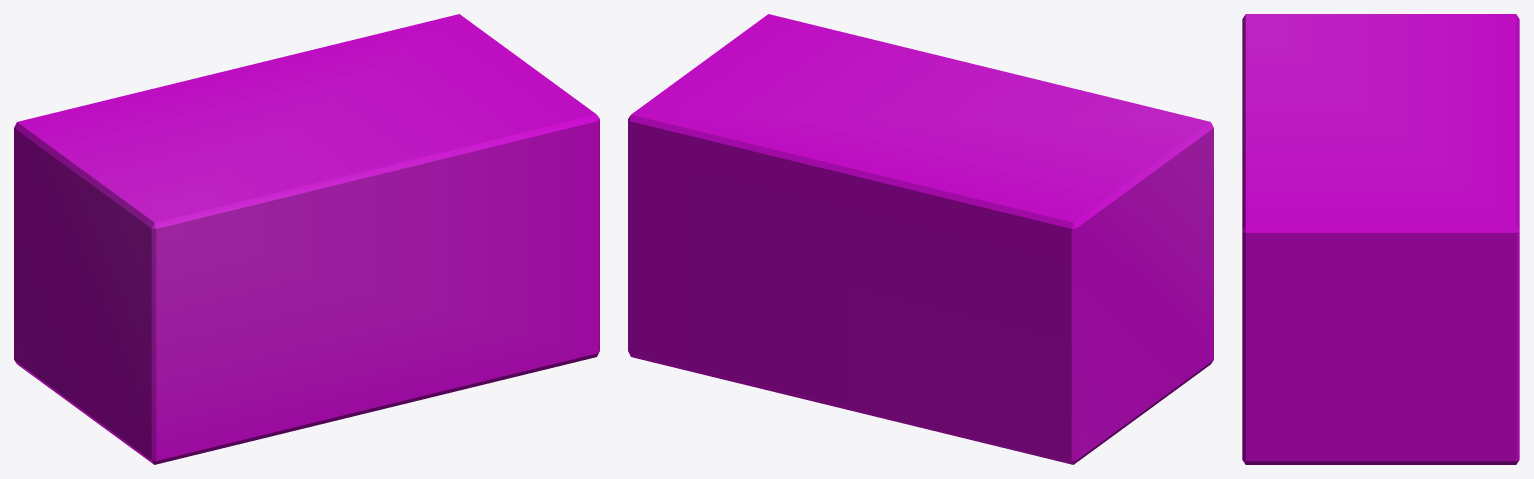
File: ObjetoLigero.fbx
3 views of the same model, side by side, from view 1: azimuth 30°, elevation 25°; view 2: azimuth 150°, elevation 25°; view 3: azimuth 270°, elevation 25° (orthographic).
Visible parts, largest first — view 1: CuboLigero; view 2: CuboLigero; view 3: CuboLigero.
Part boxes in pixels (left/top/right/bottom): CuboLigero: left=14, top=14, right=599, bottom=464; CuboLigero: left=628, top=14, right=1213, bottom=464; CuboLigero: left=1242, top=14, right=1519, bottom=464.
Size of the model in its own units: 195 by 101 by 106.
